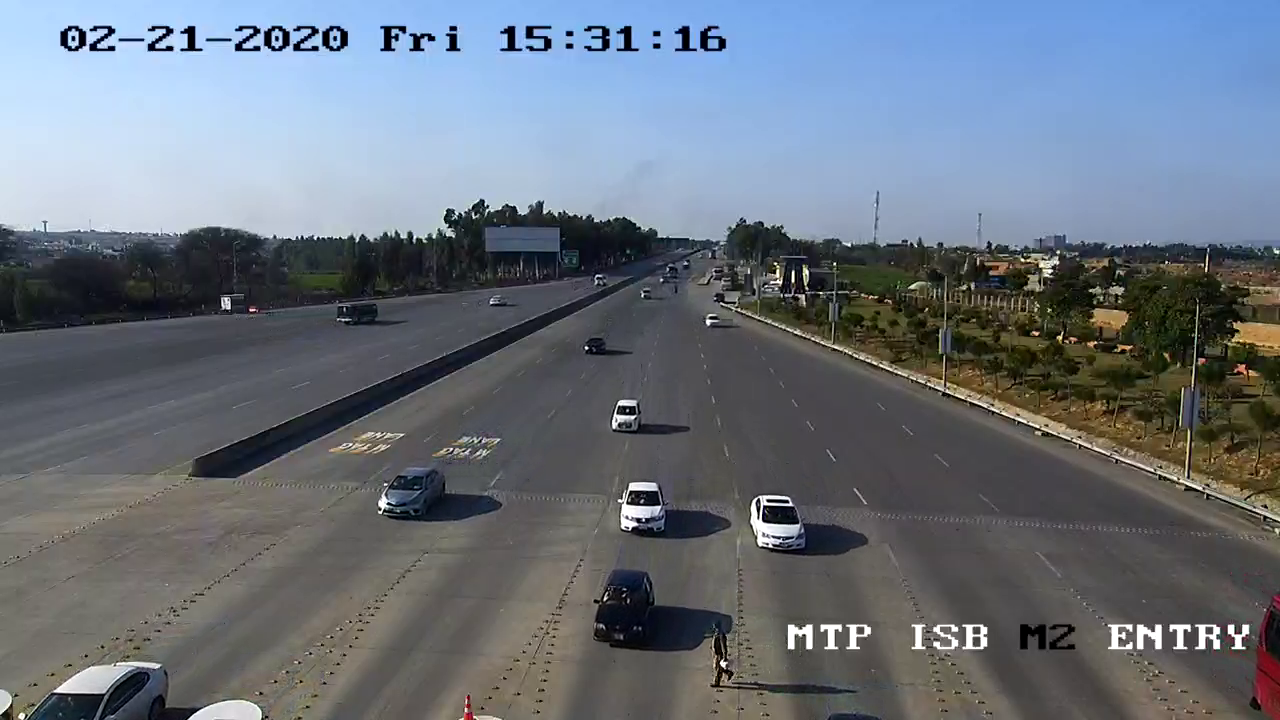f1: (577, 555, 668, 658), (734, 480, 814, 563), (365, 455, 455, 528), (602, 472, 679, 537)
